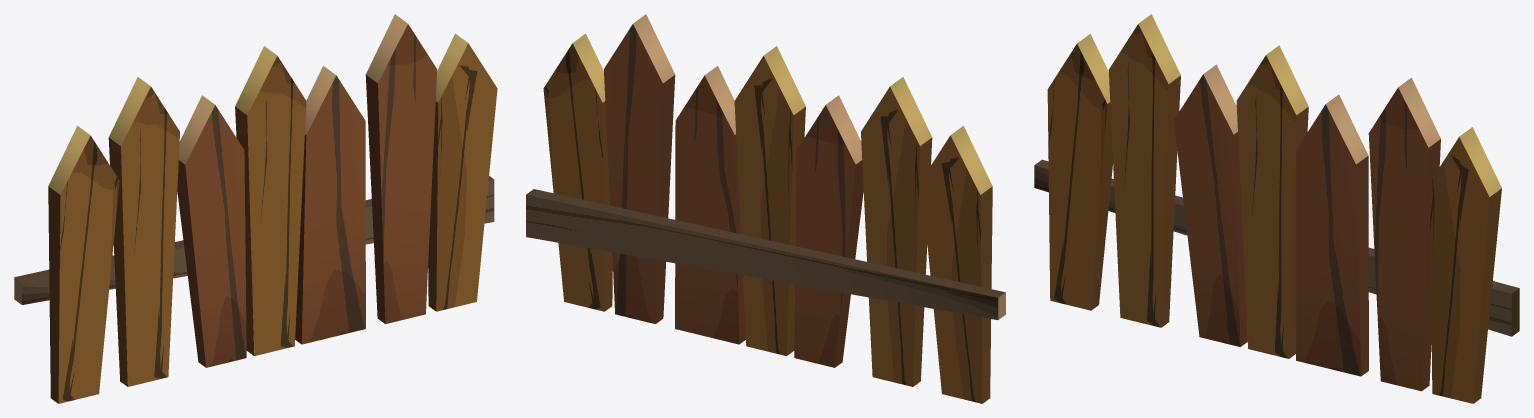
3 renders of one model, left to right at view 1: azimuth 30°, elevation 25°; view 2: azimuth 150°, elevation 25°; view 3: azimuth 330°, elevation 25°, orthographic.
Visible parts, largest first — view 1: Box349; view 2: Box349; view 3: Box349.
Boxes of the visible parts, <box> form: Box349: <box>14,14,497,403</box>; Box349: <box>526,14,1005,403</box>; Box349: <box>1034,14,1519,403</box>.
Size of the model in its own units: 6.05 by 3.64 by 0.4622.
